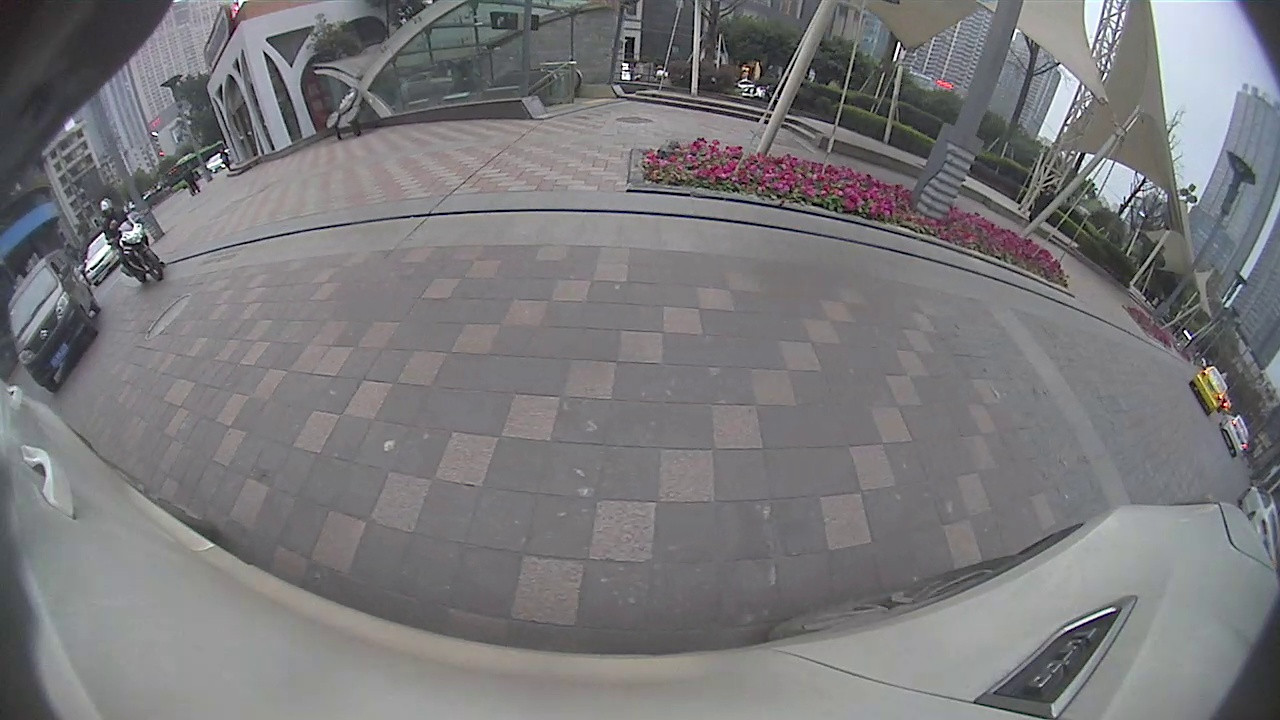car: (7, 248, 102, 395), (1190, 363, 1230, 416)
rider: (97, 197, 165, 282)
